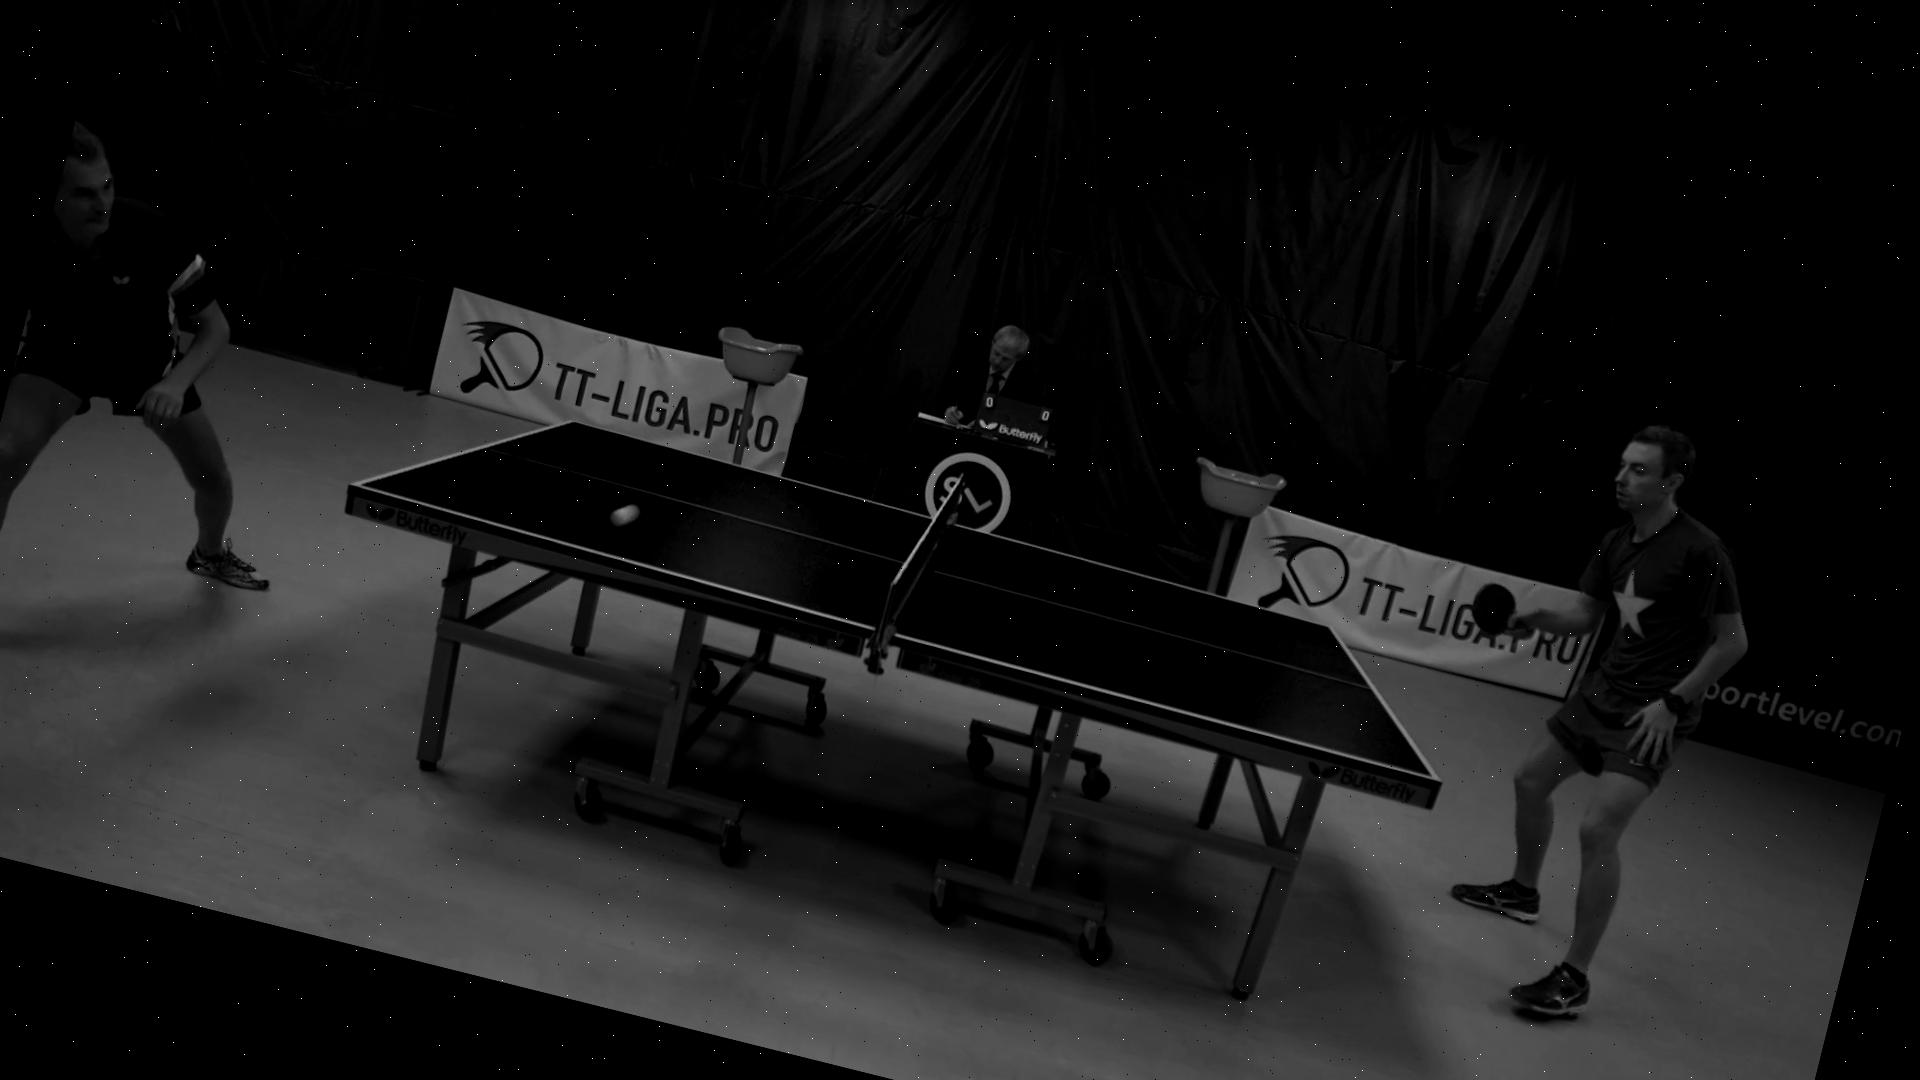ball: (604, 493, 646, 538)
